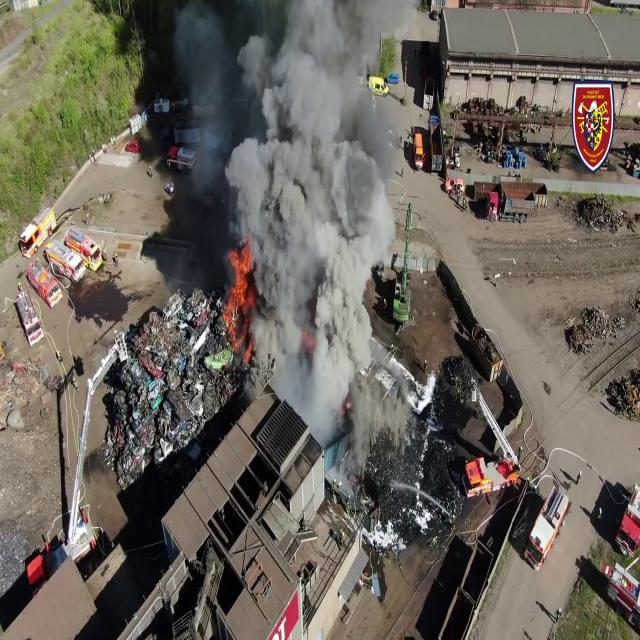Fire: (222, 238, 257, 356)
Smoke: (145, 1, 406, 428)
